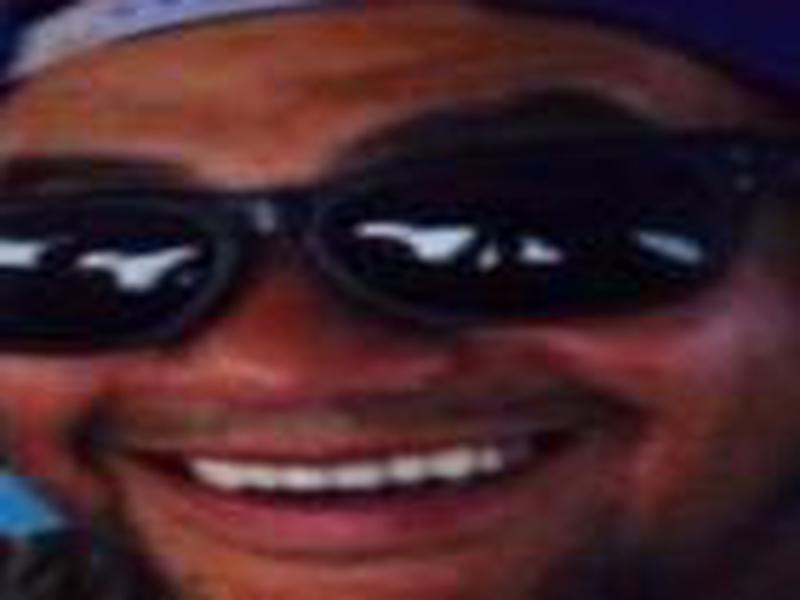without_mask: (2, 44, 791, 600)
